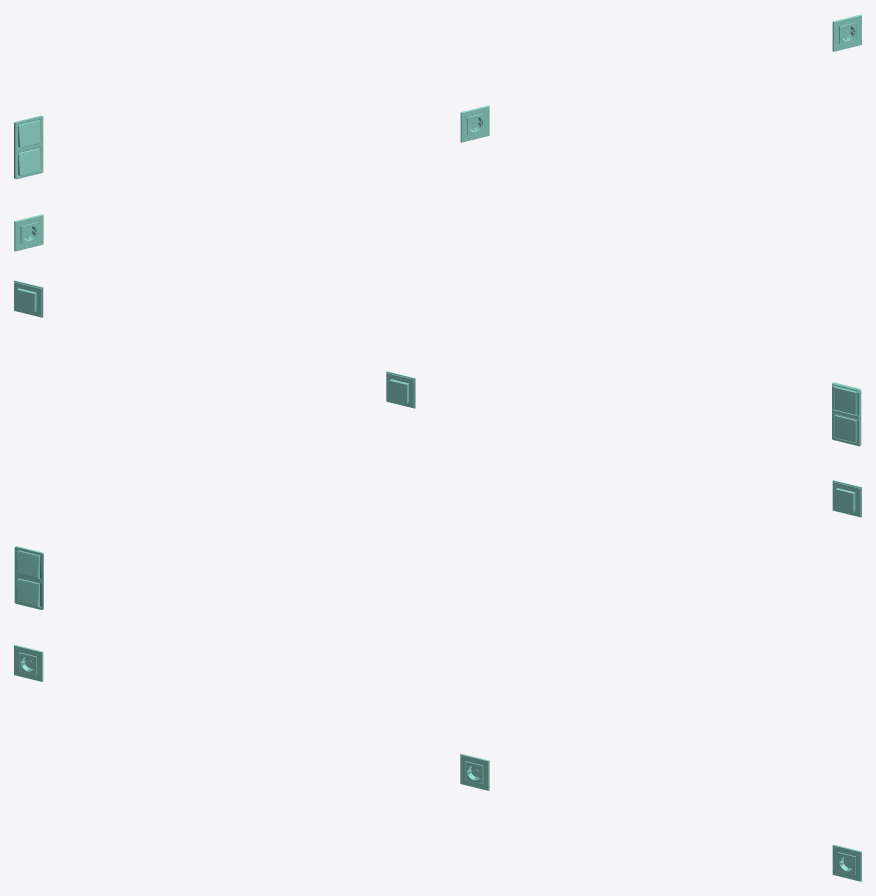
File: electrical.fbx
The picture shows the model from 3 angles, top to bottom: view 1: azimuth 30°, elevation 25°; view 2: azimuth 150°, elevation 25°; view 3: azimuth 330°, elevation 25°; orthographic projection.
Parts seen in each view (by area): view 1: electrical; view 2: electrical; view 3: electrical.
Boxes of the visible parts, <box> form: electrical: <box>14,14,861,251</box>; electrical: <box>14,280,861,517</box>; electrical: <box>14,546,861,881</box>.
Bounding box in the file's own units: 240 × 34.68 × 2.03.
